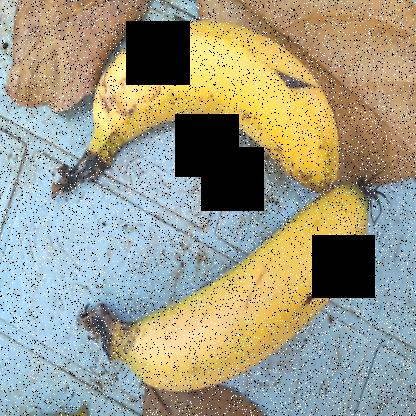freshripe: (126, 186, 366, 395)
ripe: (69, 15, 366, 182)
